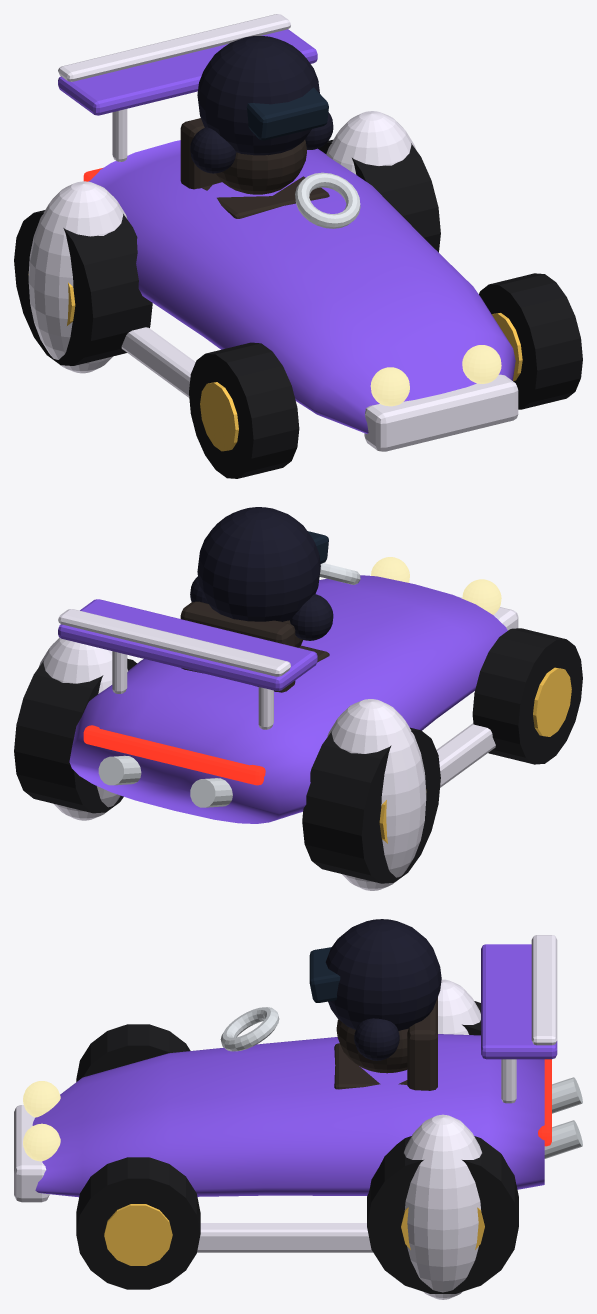
The model's file is kart5.glb.
The picture shows the model from 3 angles, top to bottom: view 1: azimuth 30°, elevation 25°; view 2: azimuth 150°, elevation 25°; view 3: azimuth 270°, elevation 25°; orthographic projection. The views are drawn at different scales.
Parts seen in each view (by area): view 1: Body, TireRR, TireFR, Head, TireFL, Fender.001, Bumper, SpoWing, SpoTop, TireRL, Fender, Torso (+11 smaller); view 2: Body, TireRR, Head, TireFR, TireRL, Fender.001, SpoWing, SpoTop, TailBar, Fender, SeatBack, HubFR (+9 smaller); view 3: Body, Fender, TireFL, TireRL, Head, SpoWing, Skirt, TireFR, HubFL, SpoTop, SeatBack, Bumper (+12 smaller).
Boxes of the visible parts, left/top/right/bottom form: Body: left=88, top=140, right=515, bottom=433; TireRR: left=14, top=210, right=152, bottom=365; TireFR: left=189, top=342, right=299, bottom=478; Head: left=197, top=36, right=319, bottom=155; TireFL: left=479, top=273, right=582, bottom=409; Fender.001: left=28, top=181, right=127, bottom=373; Bumper: left=364, top=374, right=518, bottom=451; SpoWing: left=58, top=29, right=317, bottom=115; SpoTop: left=58, top=14, right=290, bottom=81; TireRL: left=318, top=140, right=440, bottom=252; Fender: left=326, top=111, right=416, bottom=174; Torso: left=215, top=139, right=306, bottom=194; Body: left=69, top=575, right=507, bottom=823; TireRR: left=302, top=727, right=440, bottom=883; Head: left=197, top=507, right=320, bottom=621; TireFR: left=472, top=628, right=582, bottom=764; TireRL: left=14, top=658, right=137, bottom=813; Fender.001: left=327, top=699, right=426, bottom=890; SpoWing: left=58, top=599, right=317, bottom=690; SpoTop: left=58, top=609, right=290, bottom=676; TailBar: left=83, top=725, right=265, bottom=785; Fender: left=38, top=637, right=127, bottom=820; SeatBack: left=180, top=601, right=295, bottom=692; HubFR: left=533, top=667, right=571, bottom=736; Body: left=32, top=1034, right=544, bottom=1197; Fender: left=404, top=1114, right=481, bottom=1299; TireFL: left=76, top=1157, right=200, bottom=1289; TireRL: left=367, top=1136, right=518, bottom=1293; Head: left=325, top=919, right=441, bottom=1030; SpoWing: left=481, top=944, right=557, bottom=1059; Skirt: left=197, top=1223, right=372, bottom=1252; TireFR: left=76, top=1024, right=190, bottom=1081; HubFL: left=104, top=1204, right=172, bottom=1265; SpoTop: left=531, top=935, right=557, bottom=1045; SeatBack: left=407, top=997, right=437, bottom=1090; Bumper: left=14, top=1105, right=49, bottom=1202.
Size of the model in its own units: 1.69 by 1.32 by 2.24.
